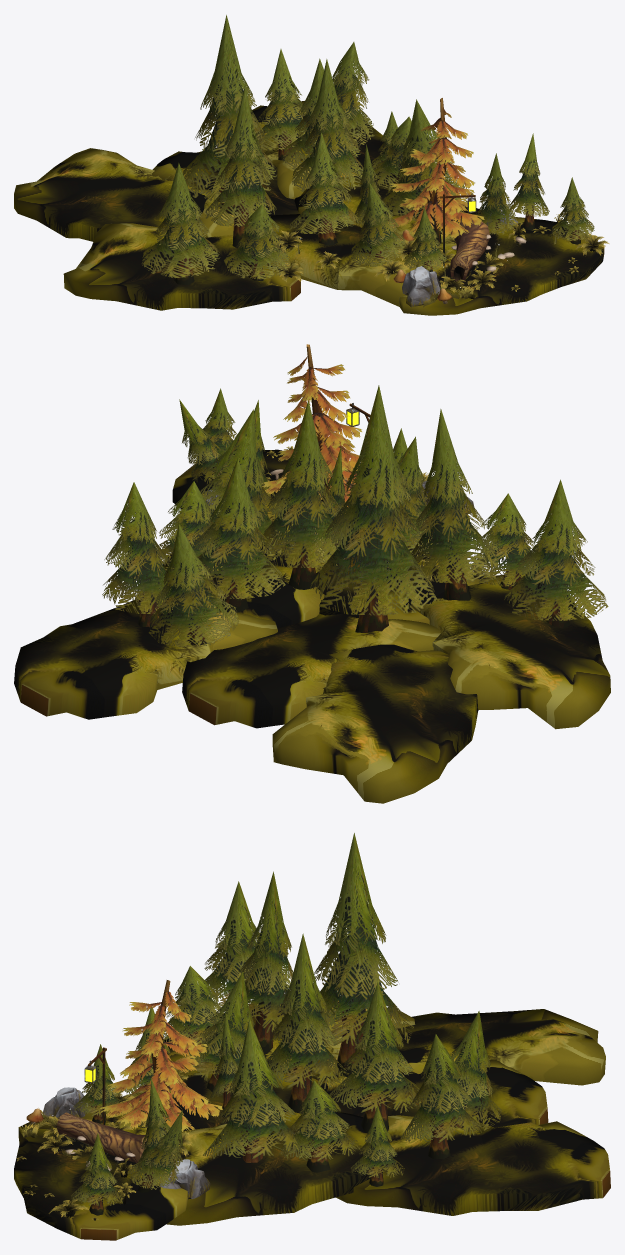
File: forest_scene.FBX
The picture shows the model from 3 angles, top to bottom: view 1: azimuth 30°, elevation 25°; view 2: azimuth 150°, elevation 25°; view 3: azimuth 270°, elevation 25°; orthographic projection. The views are drawn at different scales.
Parts seen in each view (by area): view 1: Plane006, Plane007, Plane001, Object204, Plane003, Object051, Object201, Object202, Object203, Object199, Object200, Object198 (+16 smaller); view 2: Plane007, Plane006, Plane004, Plane005, Object204, Object201, Object203, Object202, Object197, Object198, Object193, Object051 (+11 smaller); view 3: Plane004, Plane002, Plane001, Plane007, Object204, Object051, Object203, Object192, Object197, Object201, Plane005, Object193 (+18 smaller).
Part boxes in pixels (bbox=[...]): Plane006: bbox=[63, 223, 300, 310]; Plane007: bbox=[14, 148, 211, 241]; Plane001: bbox=[383, 217, 604, 315]; Object204: bbox=[183, 15, 276, 214]; Plane003: bbox=[263, 214, 416, 306]; Object051: bbox=[384, 98, 484, 245]; Object201: bbox=[205, 84, 276, 248]; Object202: bbox=[141, 162, 220, 285]; Object203: bbox=[292, 59, 363, 209]; Object199: bbox=[289, 132, 360, 245]; Object200: bbox=[224, 204, 290, 280]; Object198: bbox=[255, 49, 311, 160]; Plane007: bbox=[272, 644, 478, 803]; Plane006: bbox=[411, 574, 610, 729]; Plane004: bbox=[14, 599, 277, 719]; Plane005: bbox=[182, 614, 440, 728]; Object204: bbox=[310, 385, 436, 632]; Object201: bbox=[408, 409, 498, 600]; Object203: bbox=[256, 400, 348, 589]; Object202: bbox=[504, 479, 608, 628]; Object197: bbox=[193, 458, 285, 613]; Object198: bbox=[148, 524, 238, 647]; Object193: bbox=[102, 482, 177, 627]; Object051: bbox=[262, 344, 361, 520]; Plane004: bbox=[336, 1115, 610, 1215]; Plane002: bbox=[166, 1111, 392, 1225]; Plane001: bbox=[14, 1113, 188, 1240]; Plane007: bbox=[371, 1009, 605, 1085]; Object204: bbox=[314, 833, 413, 1077]; Object051: bbox=[99, 980, 222, 1132]; Object203: bbox=[267, 933, 349, 1113]; Object192: bbox=[203, 1019, 302, 1162]; Object197: bbox=[329, 982, 423, 1132]; Object201: bbox=[227, 871, 298, 1053]; Plane005: bbox=[311, 1053, 548, 1127]; Object193: bbox=[400, 1034, 481, 1159].
Size of the model in its own units: 1565 by 839 by 1621.
Materials: 6 (5 with a texture image).
